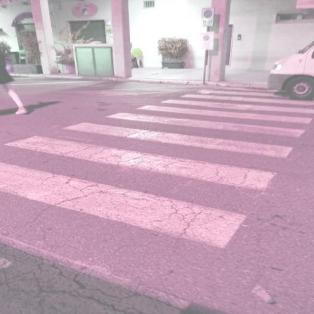Paso de Cebra: (51, 111, 310, 161)
